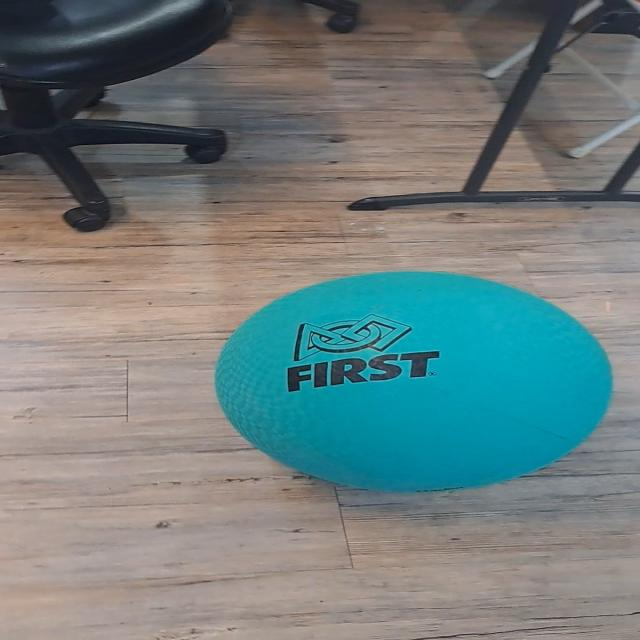ALGAE: (211, 268, 614, 494)
